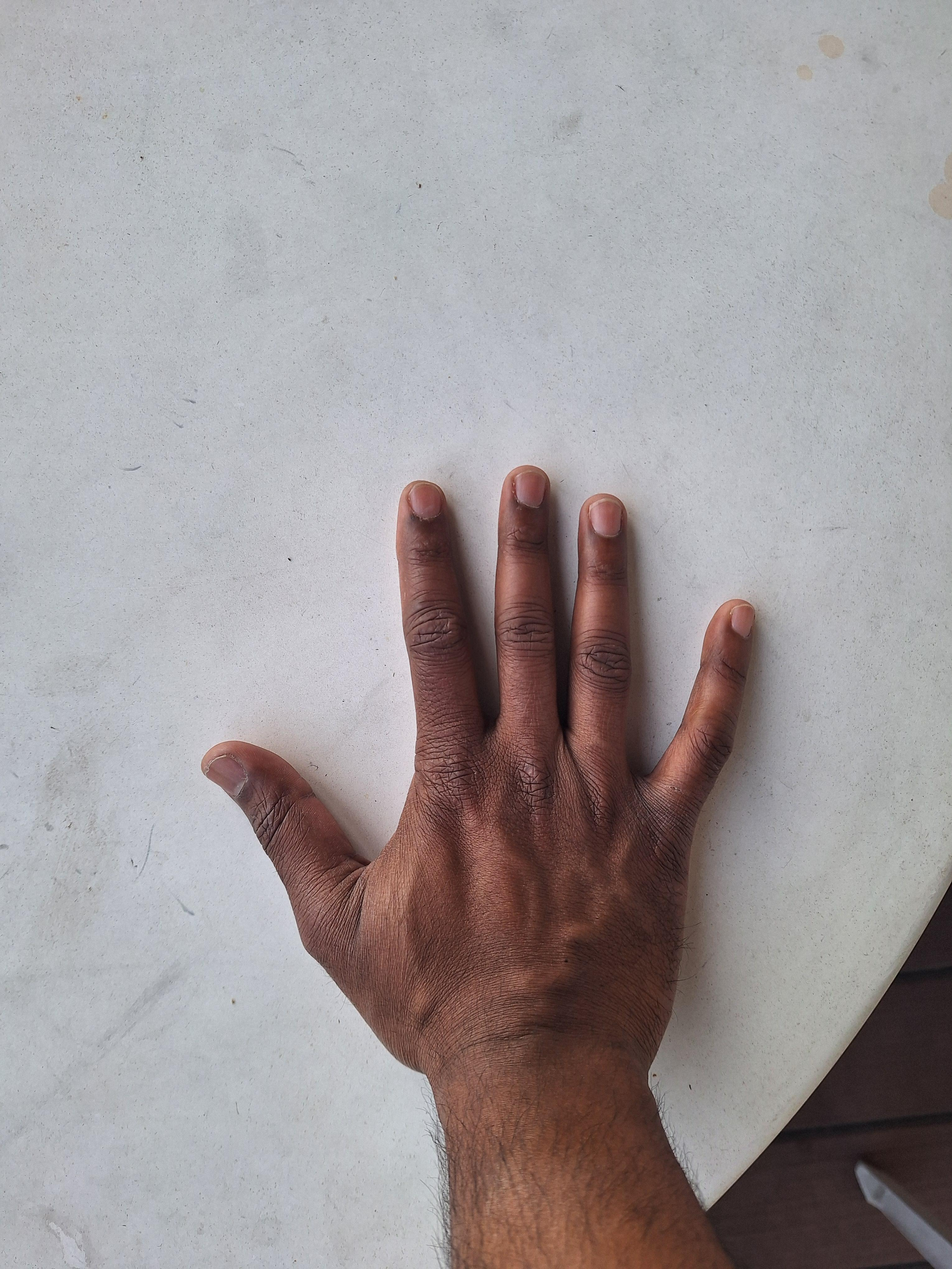Fingernail: (206, 754, 246, 796), (589, 499, 622, 536), (513, 471, 546, 508), (409, 483, 442, 519), (732, 605, 756, 638)
